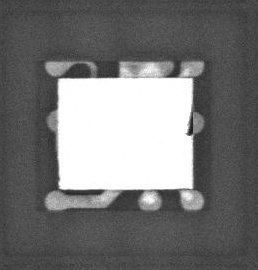DIE_BROKEN: (185, 105, 196, 137)
